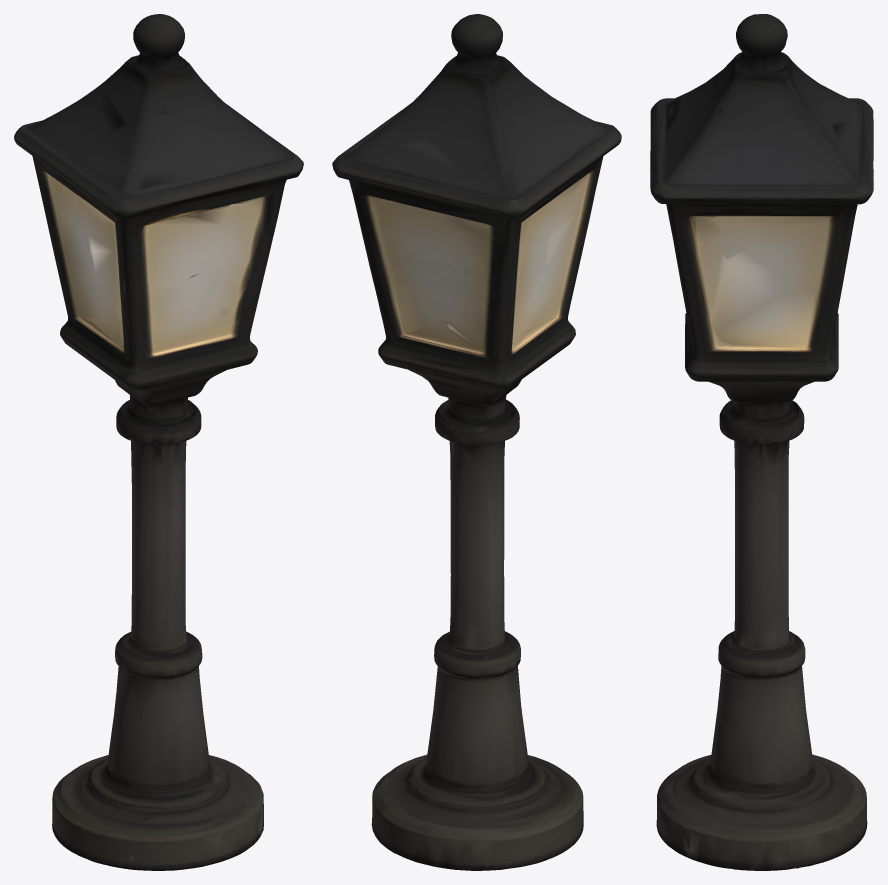
The model's file is lamp.glb.
3 renders of one model, left to right at view 1: azimuth 30°, elevation 25°; view 2: azimuth 150°, elevation 25°; view 3: azimuth 270°, elevation 25°, orthographic.
Parts seen in each view (by area): view 1: node_0; view 2: node_0; view 3: node_0.
Boxes of the visible parts, box(x1,y1,x2,y2) form: node_0: box(14, 14, 303, 870); node_0: box(332, 14, 621, 870); node_0: box(650, 14, 873, 870).
Size of the model in its own units: 0.2924 by 1.17 by 0.2915.
1 material, 1 textured.
